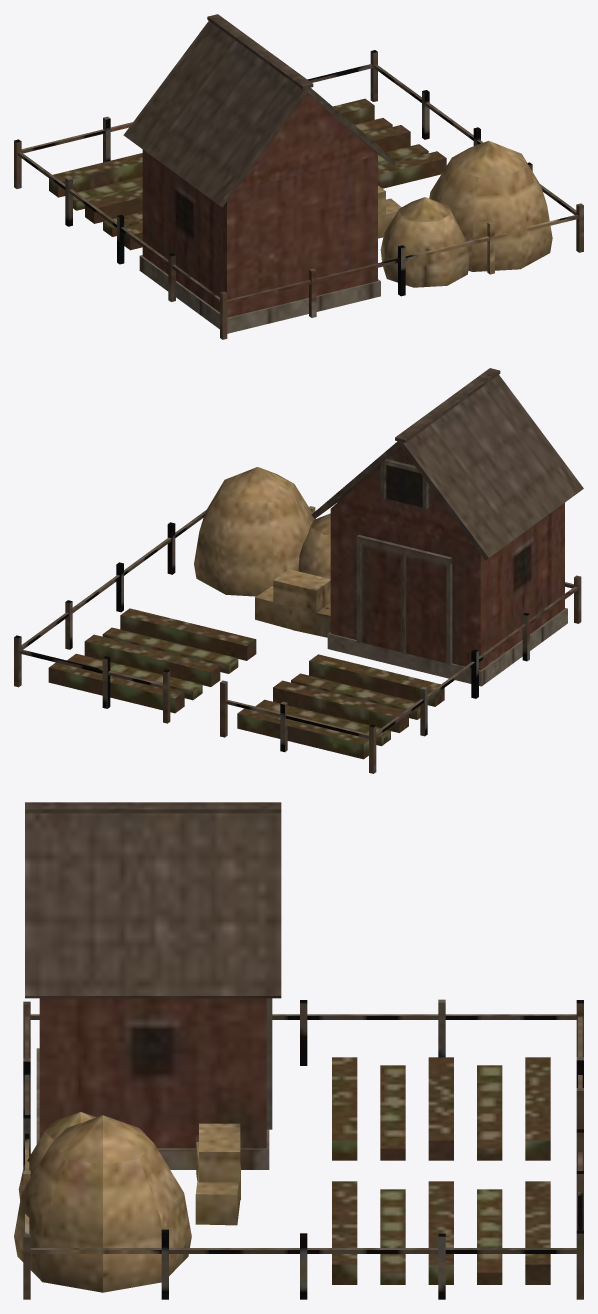
The model's file is b_farm_far.glb.
3 renders of one model, top to bottom at view 1: azimuth 30°, elevation 25°; view 2: azimuth 150°, elevation 25°; view 3: azimuth 270°, elevation 25°, orthographic. The views are drawn at different scales.
Parts seen in each view (by area): view 1: b_farm_far; view 2: b_farm_far; view 3: b_farm_far.
Part boxes in pixels (bbox=[...]): b_farm_far: bbox=[14, 14, 583, 339]; b_farm_far: bbox=[14, 368, 583, 773]; b_farm_far: bbox=[14, 802, 583, 1299].
Bounding box in the file's own units: 7.61 × 4.65 × 7.67.
Materials: 1 (1 with a texture image).
